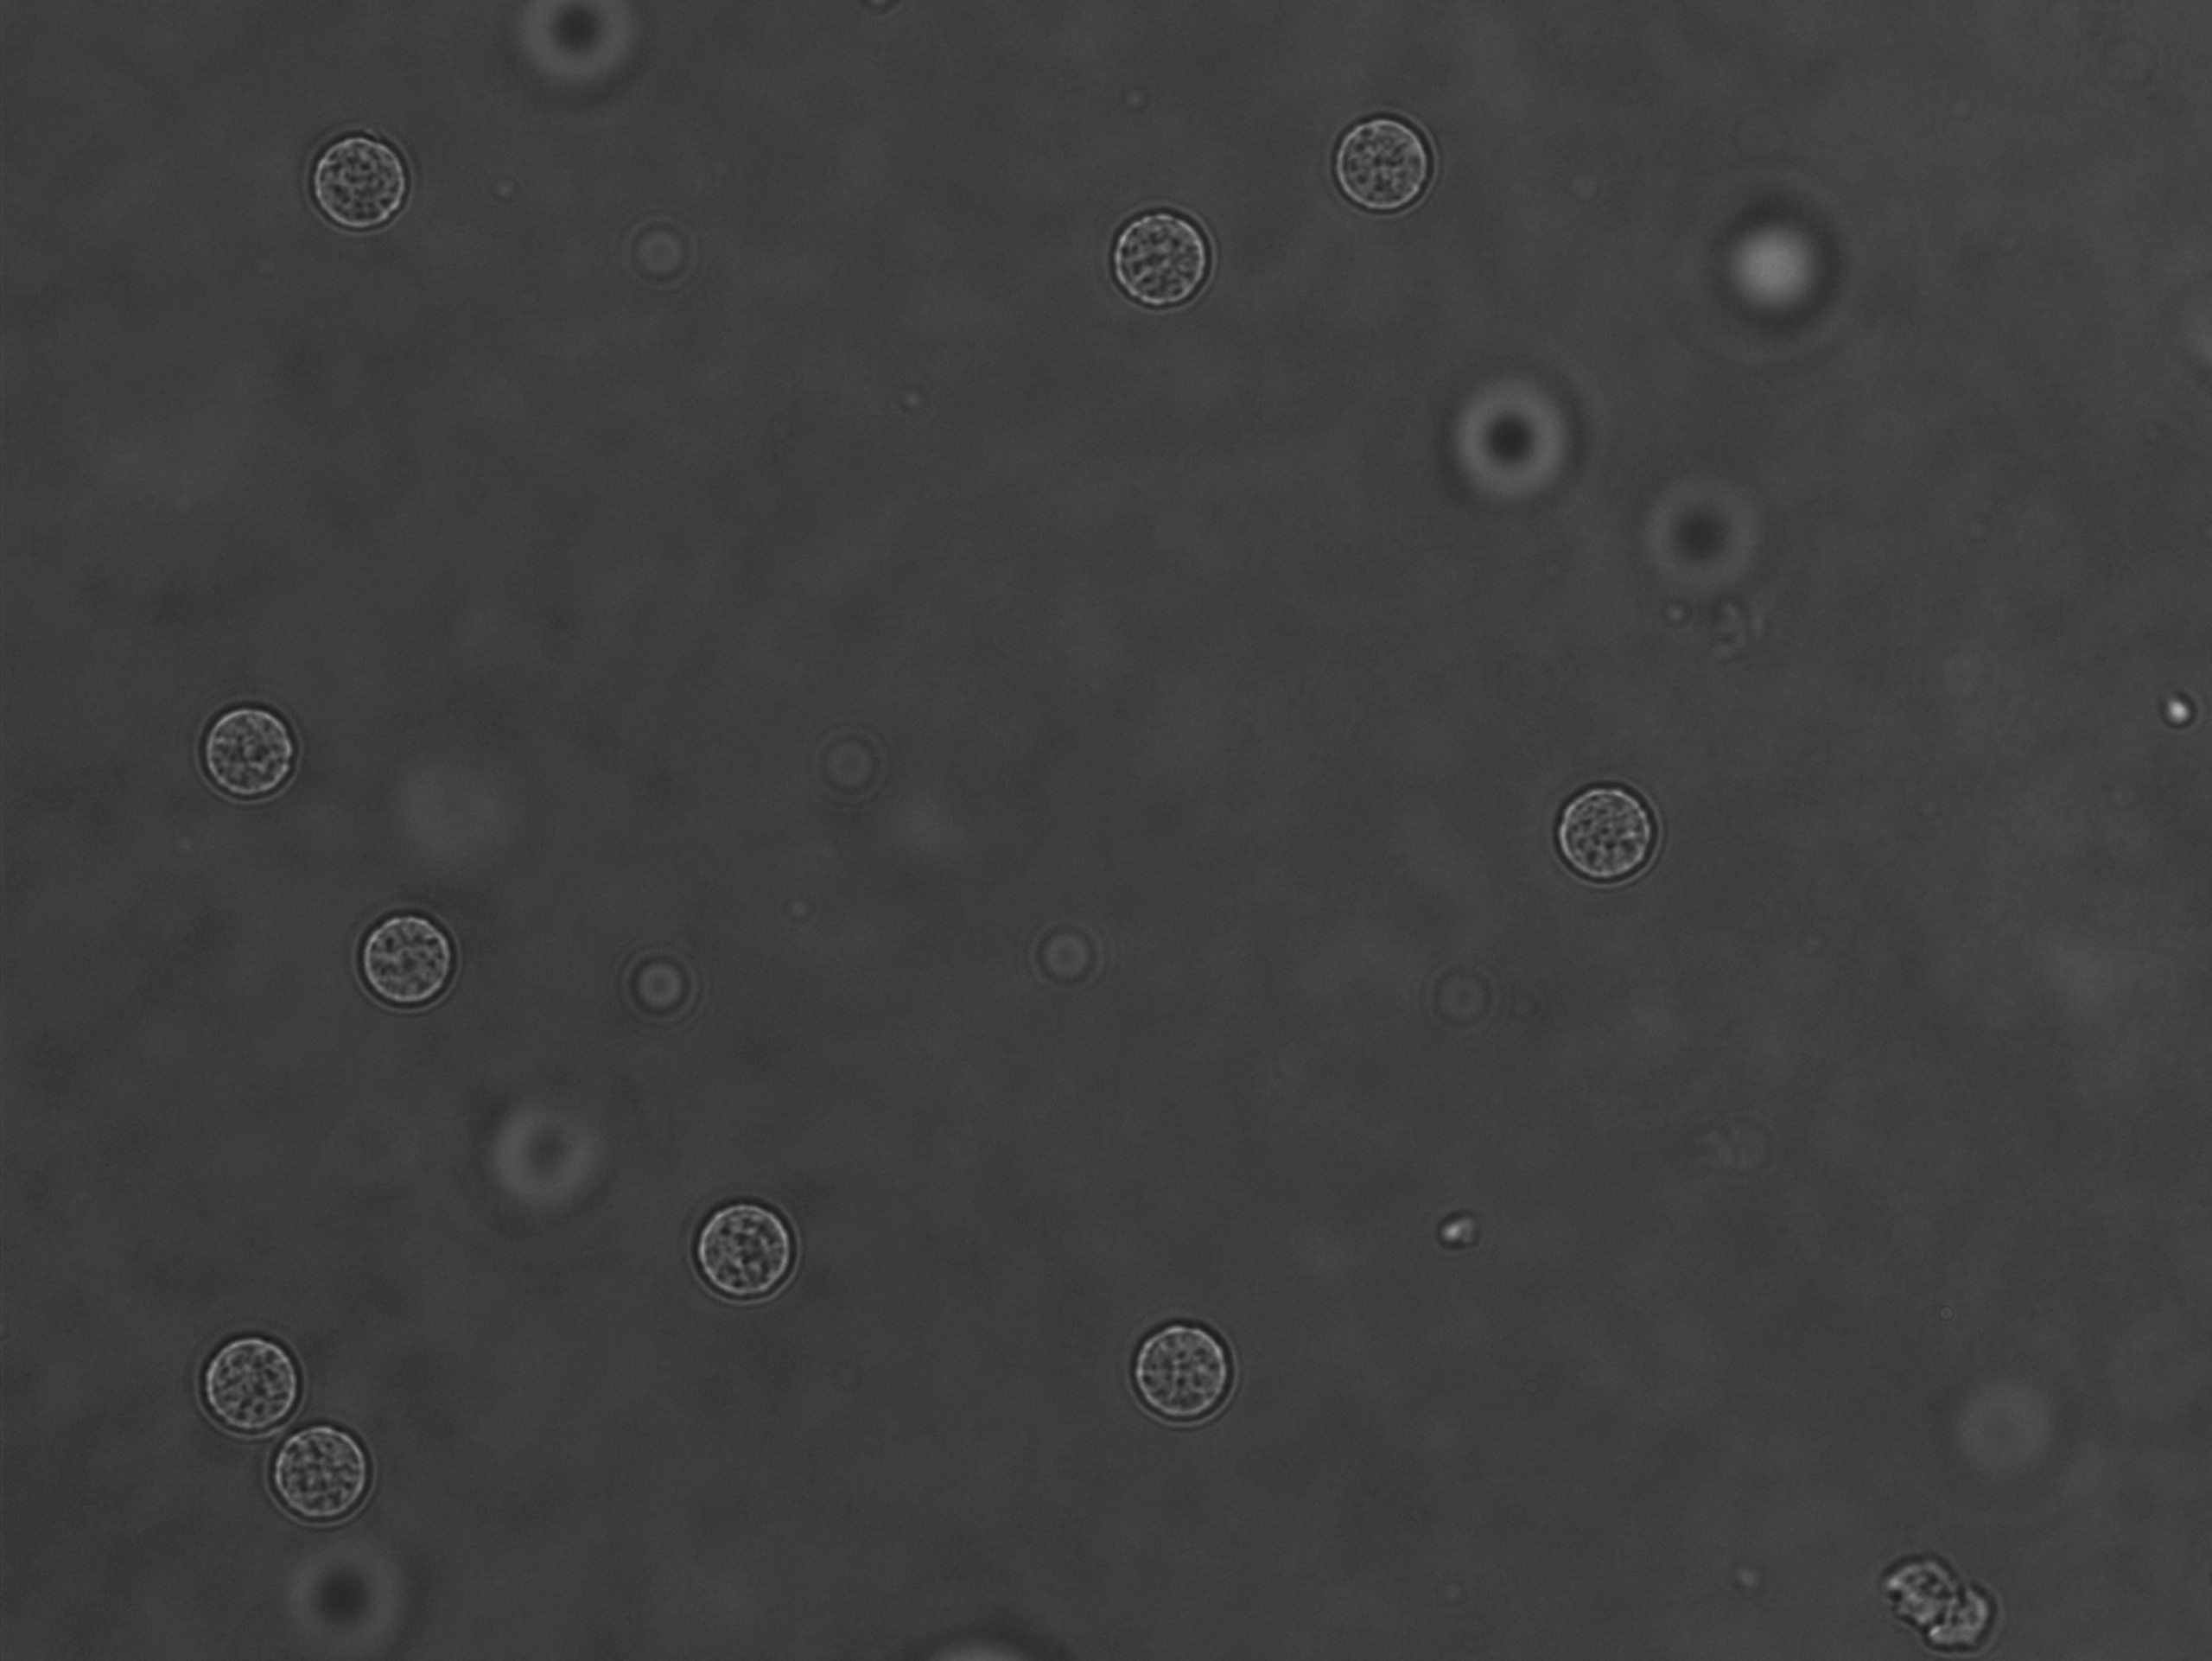depth:0: (1516, 733, 1697, 935), (1099, 1286, 1246, 1445), (185, 673, 338, 824), (1301, 101, 1460, 237), (178, 1329, 344, 1446), (1096, 190, 1233, 323), (670, 1185, 806, 1317), (293, 122, 429, 253), (344, 893, 473, 1017), (269, 1405, 382, 1537)
